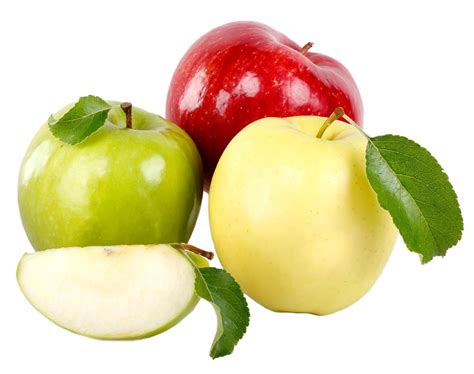apple: (209, 111, 397, 320), (16, 99, 207, 250), (160, 17, 366, 133)
